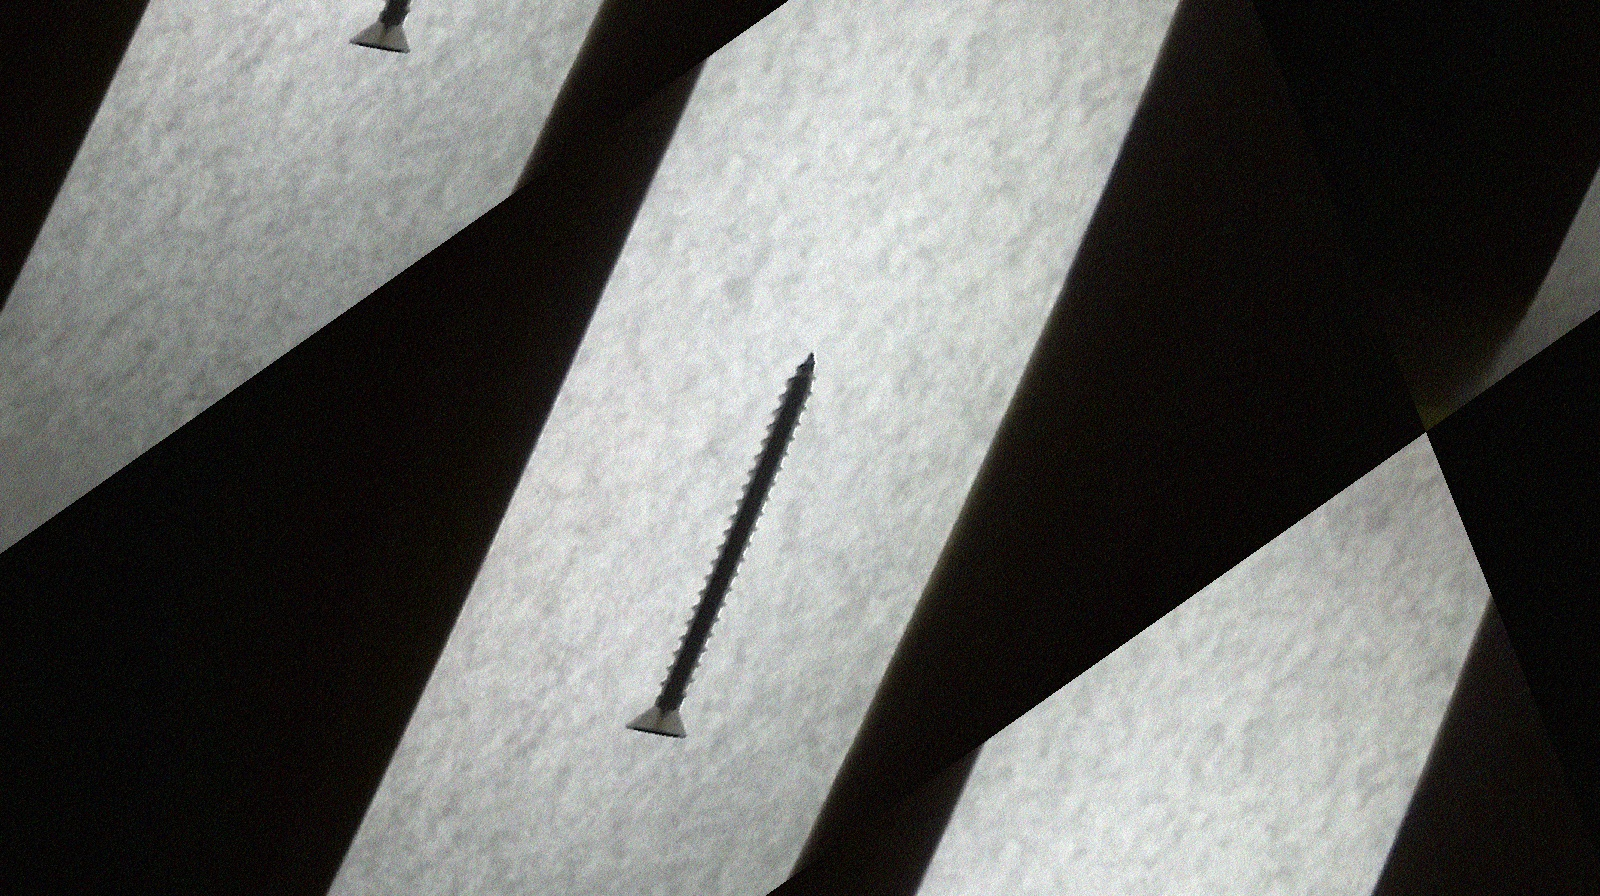S002: (519, 310, 926, 798)
